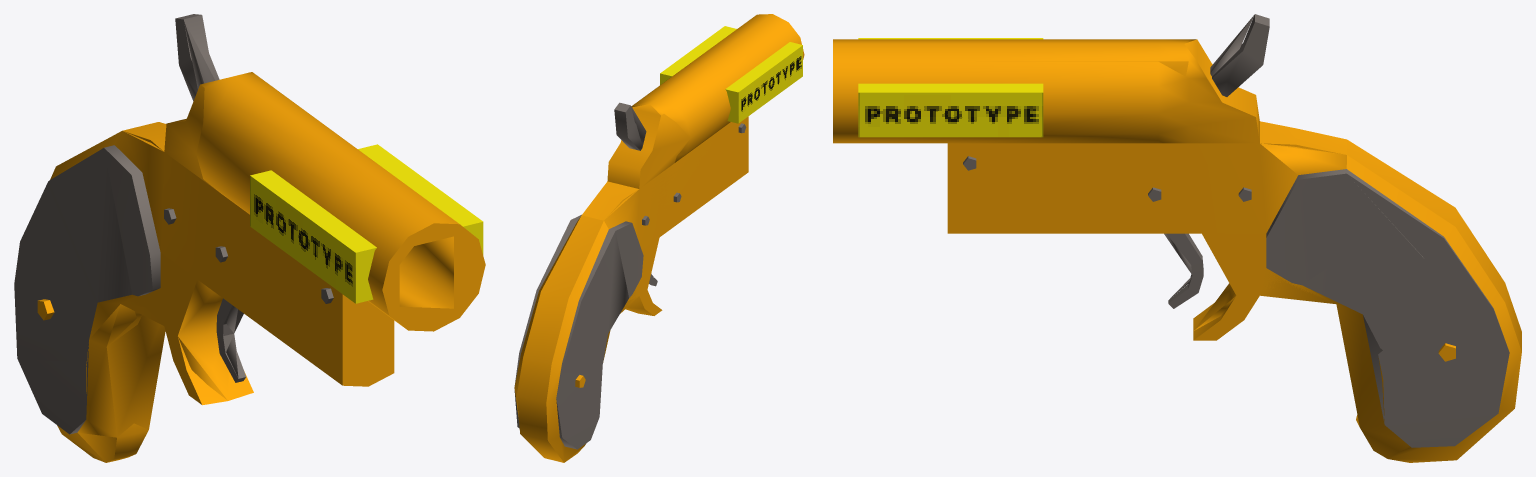
File: item_flaregun.glb
3 renders of one model, left to right at view 1: azimuth 30°, elevation 25°; view 2: azimuth 150°, elevation 25°; view 3: azimuth 270°, elevation 25°, orthographic. The views are drawn at different scales.
Visible parts, largest first — view 1: FlareGun_submesh_0, FlareGun_submesh_1, FlarePrototypeLabel; view 2: FlareGun_submesh_0, FlareGun_submesh_1, FlarePrototypeLabel; view 3: FlareGun_submesh_0, FlareGun_submesh_1, FlarePrototypeLabel.
Boxes of the visible parts, left/top/right/bottom form: FlareGun_submesh_0: left=37, top=72, right=485, bottom=462; FlareGun_submesh_1: left=14, top=14, right=333, bottom=434; FlarePrototypeLabel: left=250, top=144, right=483, bottom=303; FlareGun_submesh_0: left=514, top=14, right=804, bottom=462; FlareGun_submesh_1: left=514, top=102, right=746, bottom=449; FlarePrototypeLabel: left=660, top=26, right=802, bottom=123; FlareGun_submesh_0: left=833, top=39, right=1521, bottom=462; FlareGun_submesh_1: left=963, top=14, right=1509, bottom=447; FlarePrototypeLabel: left=858, top=38, right=1043, bottom=137.
Size of the model in its own units: 0.0589 by 0.2216 by 0.3143.
Materials: 3 (1 with a texture image).
